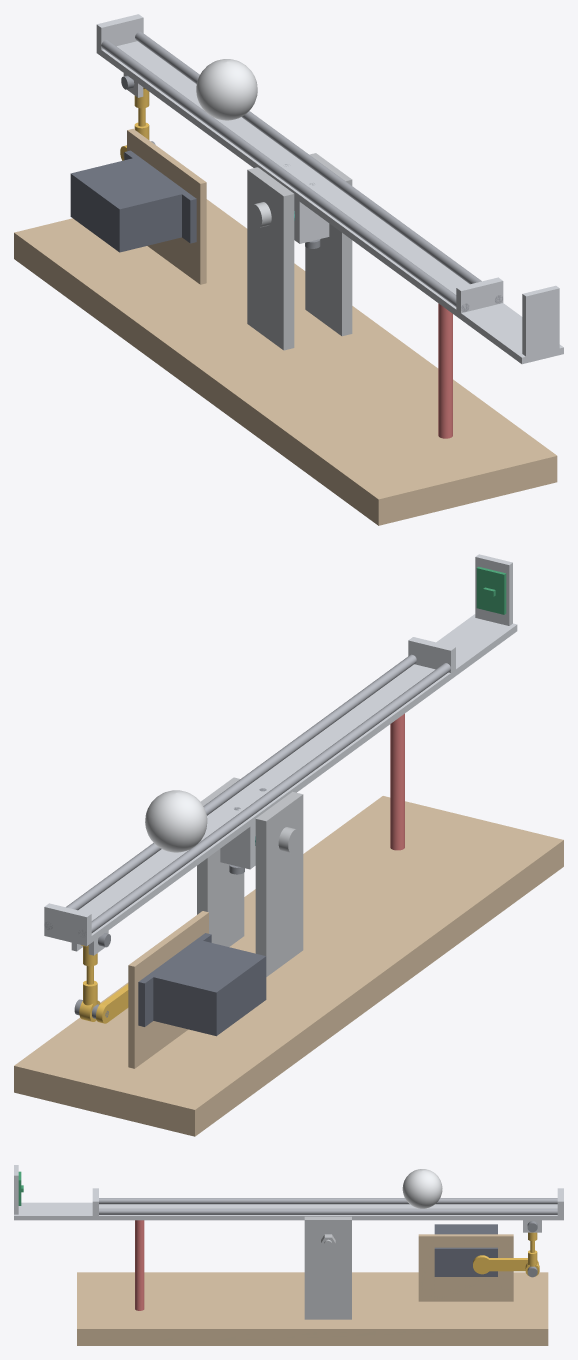
Rendered from full.glb.
3 views of the same model, one above another, from view 1: azimuth 30°, elevation 25°; view 2: azimuth 150°, elevation 25°; view 3: azimuth 270°, elevation 25° (orthographic). The views are drawn at different scales.
Visible parts, largest first — view 1: ball_on_beam; view 2: ball_on_beam; view 3: ball_on_beam.
Part boxes in pixels (<box>): ball_on_beam: <box>14,14,563,525</box>; ball_on_beam: <box>14,554,563,1136</box>; ball_on_beam: <box>14,1165,563,1345</box>.
Size of the model in its own units: 0.085 by 0.1093 by 0.35.
